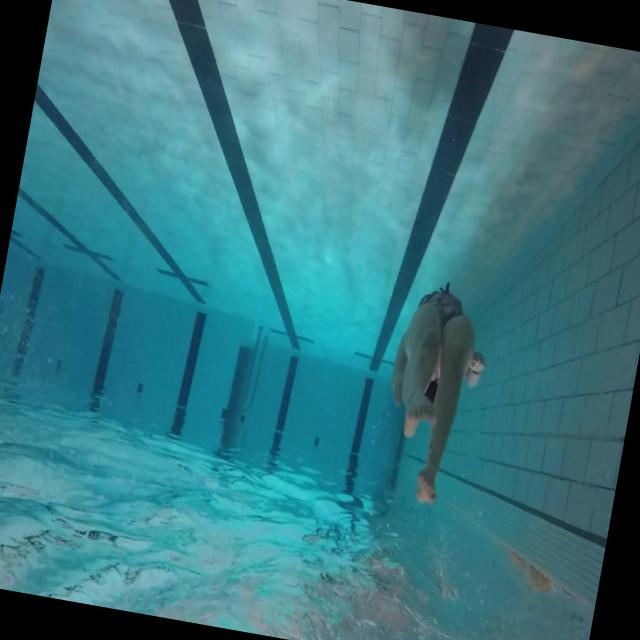human: (369, 275, 498, 512)
